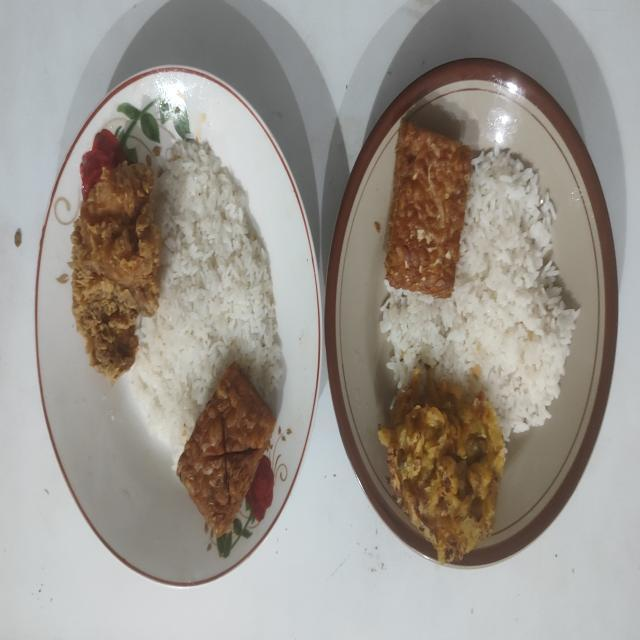nasi_putih: (380, 150, 580, 442), (130, 140, 286, 468)
tempe_goreng: (177, 362, 276, 538), (385, 120, 471, 298)
